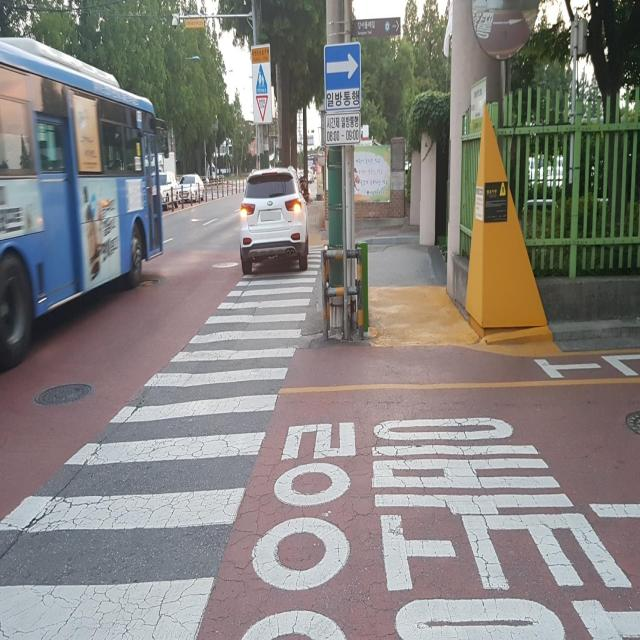횡단보도: (0, 245, 322, 640)
